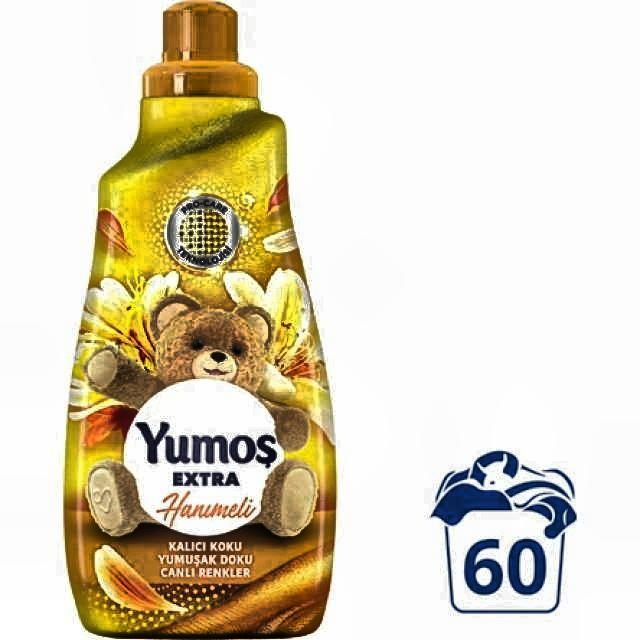plastic: (64, 0, 336, 638)
